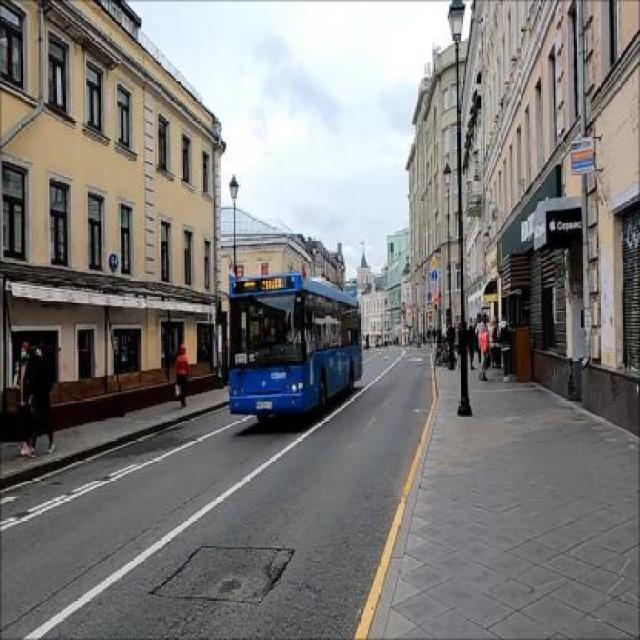bus: (229, 272, 363, 426)
